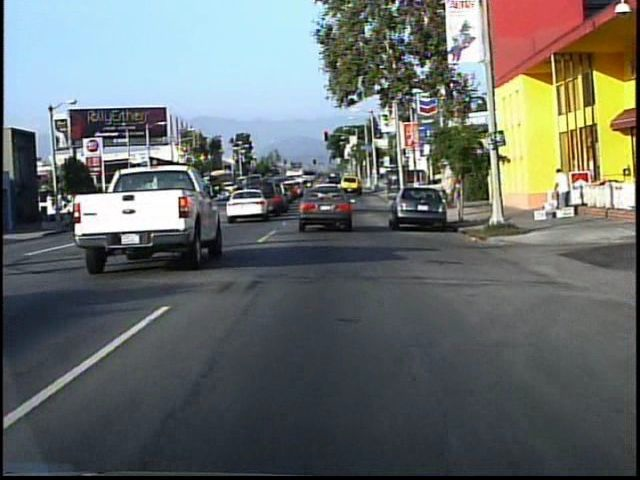person: (549, 162, 572, 209)
